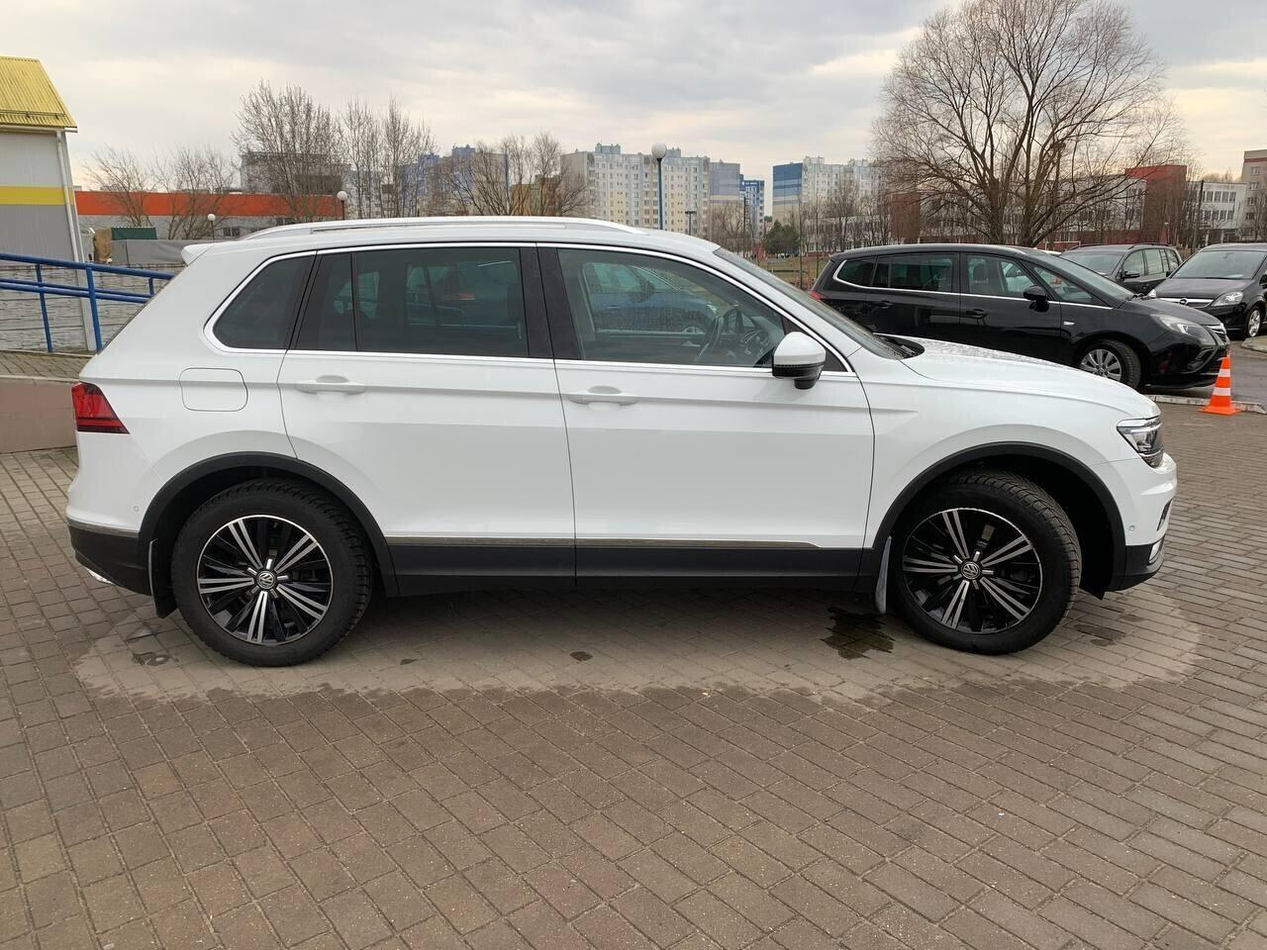Tiguan_2016-2021: (64, 215, 1180, 657)
